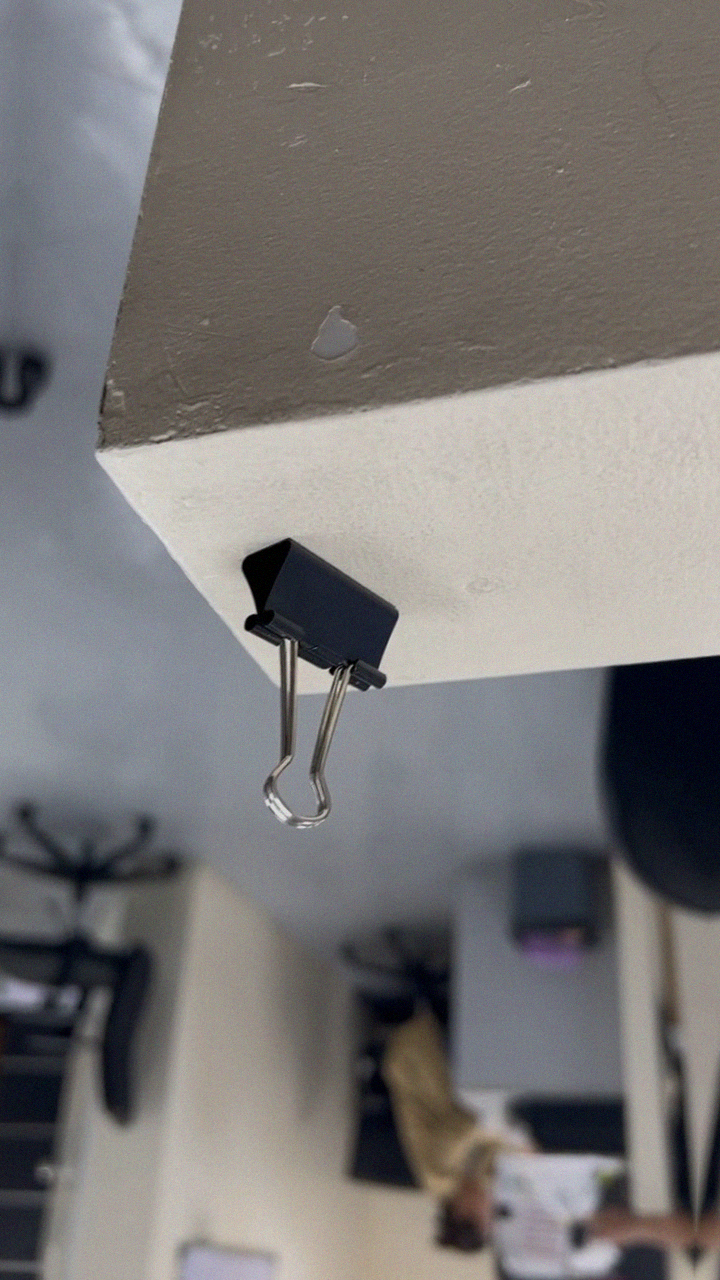kep_giay: (226, 532, 406, 835)
